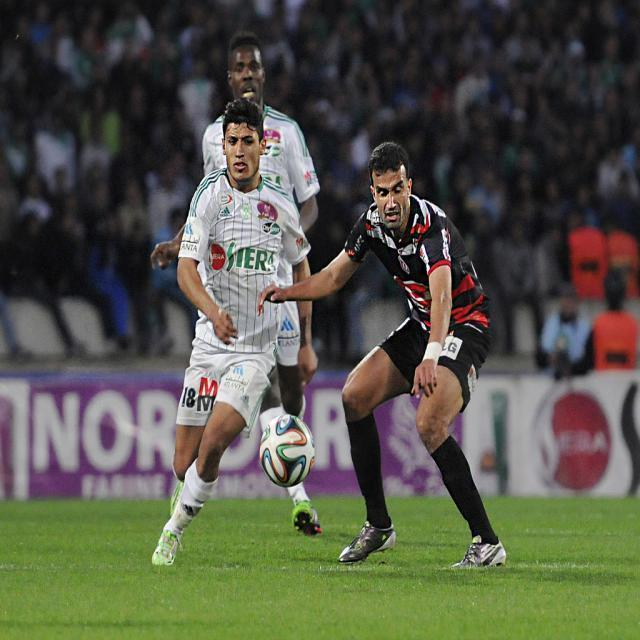football: (252, 402, 318, 499)
